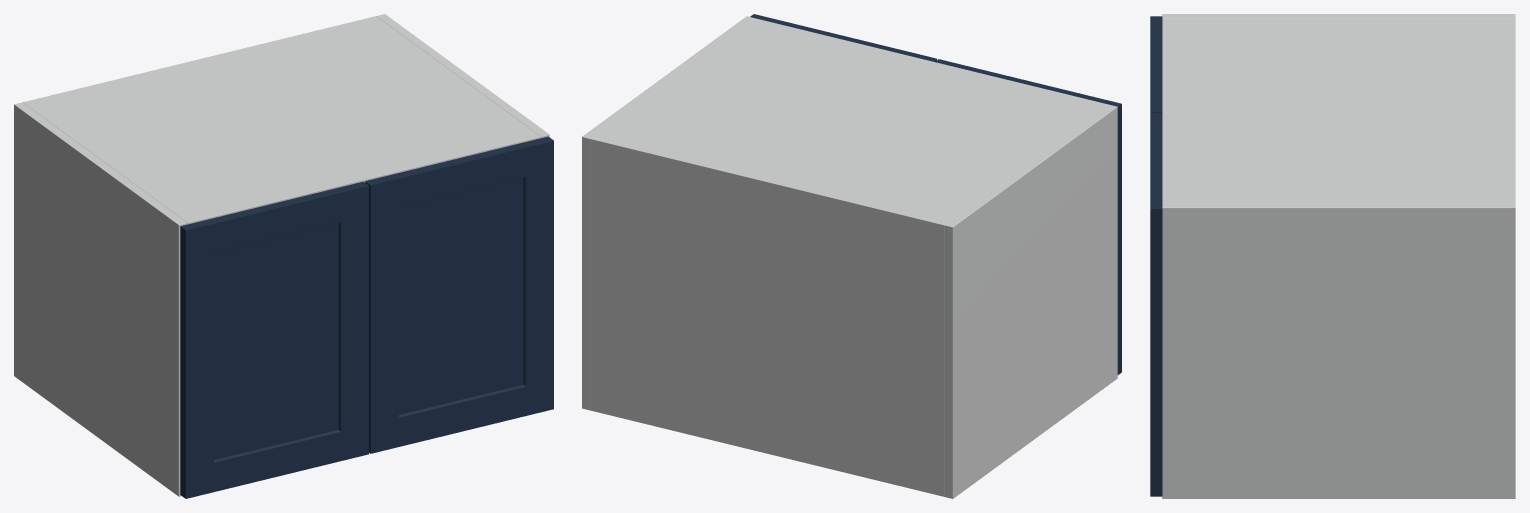
Rendered from oppein-ply-bss-w302124.glb.
3 renders of one model, left to right at view 1: azimuth 30°, elevation 25°; view 2: azimuth 150°, elevation 25°; view 3: azimuth 270°, elevation 25°, orthographic. The views are drawn at different scales.
Parts seen in each view (by area): view 1: Cabinet top, Door, Door.001, Cabinet side, Cabinet side.001, Cabinet back; view 2: Cabinet back, Cabinet top, Cabinet side, Cabinet side.001, Door, Door.001; view 3: Cabinet side.001, Cabinet top, Door.001, Cabinet side, Cabinet back, Door.
Boxes of the visible parts, x1,y1,x2,y2 form: Cabinet top: (24,16,540,224); Door: (180,181,368,498); Door.001: (365,136,553,453); Cabinet side: (14,102,187,496); Cabinet side.001: (376,14,549,138); Cabinet back: (23,16,378,103); Cabinet back: (590,136,946,496); Cabinet top: (591,18,1108,232); Cabinet side: (944,104,1117,498); Cabinet side.001: (582,16,754,410); Door: (935,59,1121,374); Door.001: (750,14,936,61); Cabinet side.001: (1162,203,1515,498); Cabinet top: (1162,18,1515,203); Door.001: (1150,113,1162,496); Cabinet side: (1162,14,1515,18); Cabinet back: (1508,18,1515,203); Door: (1150,16,1162,112).
Size of the model in its own units: 0.762 by 0.5334 by 0.6064.
